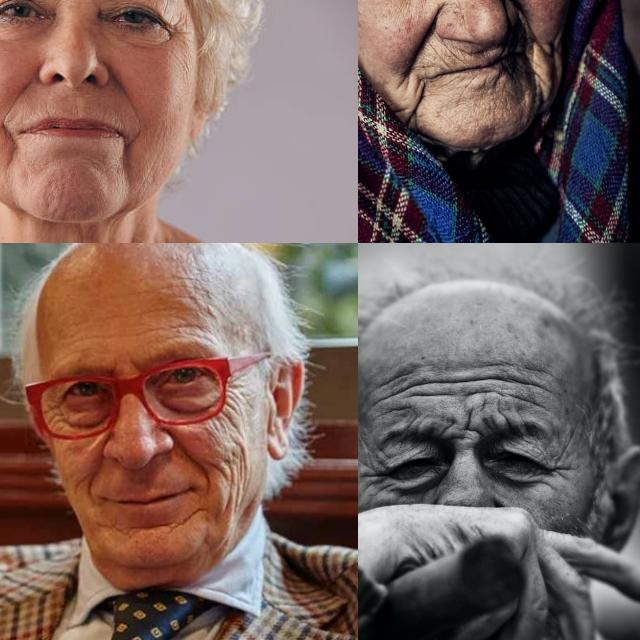chin: (126, 520, 180, 538), (182, 499, 208, 533), (44, 178, 62, 210)
crows_feet: (165, 20, 192, 50), (222, 382, 242, 422), (544, 456, 572, 482), (362, 463, 391, 487), (43, 402, 65, 432)
forehead: (500, 360, 546, 394), (460, 364, 500, 402), (152, 316, 206, 338), (410, 376, 452, 404), (382, 368, 412, 400), (503, 386, 542, 409), (380, 400, 420, 420)
frown_line: (457, 410, 481, 440)
gummy_smile: (398, 20, 444, 70), (174, 438, 210, 478), (4, 74, 36, 116), (106, 70, 138, 106), (86, 448, 104, 496)
masseter: (537, 41, 563, 105), (218, 458, 250, 509)
sad_smile: (403, 83, 425, 127), (0, 125, 23, 162), (122, 124, 146, 150)
smoker_lines: (450, 41, 488, 63)
